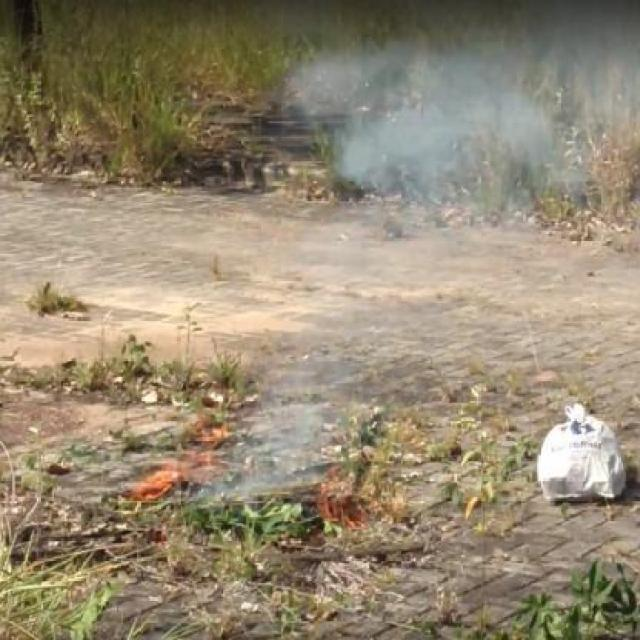Fire: (128, 418, 234, 502), (304, 470, 388, 527)
